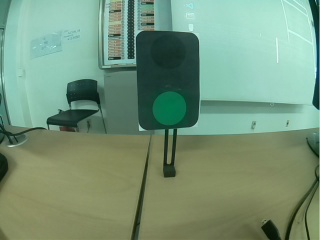green_light: (135, 29, 202, 134)
